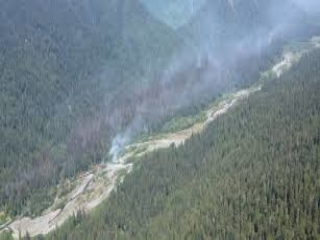smoke: (103, 109, 152, 163)
